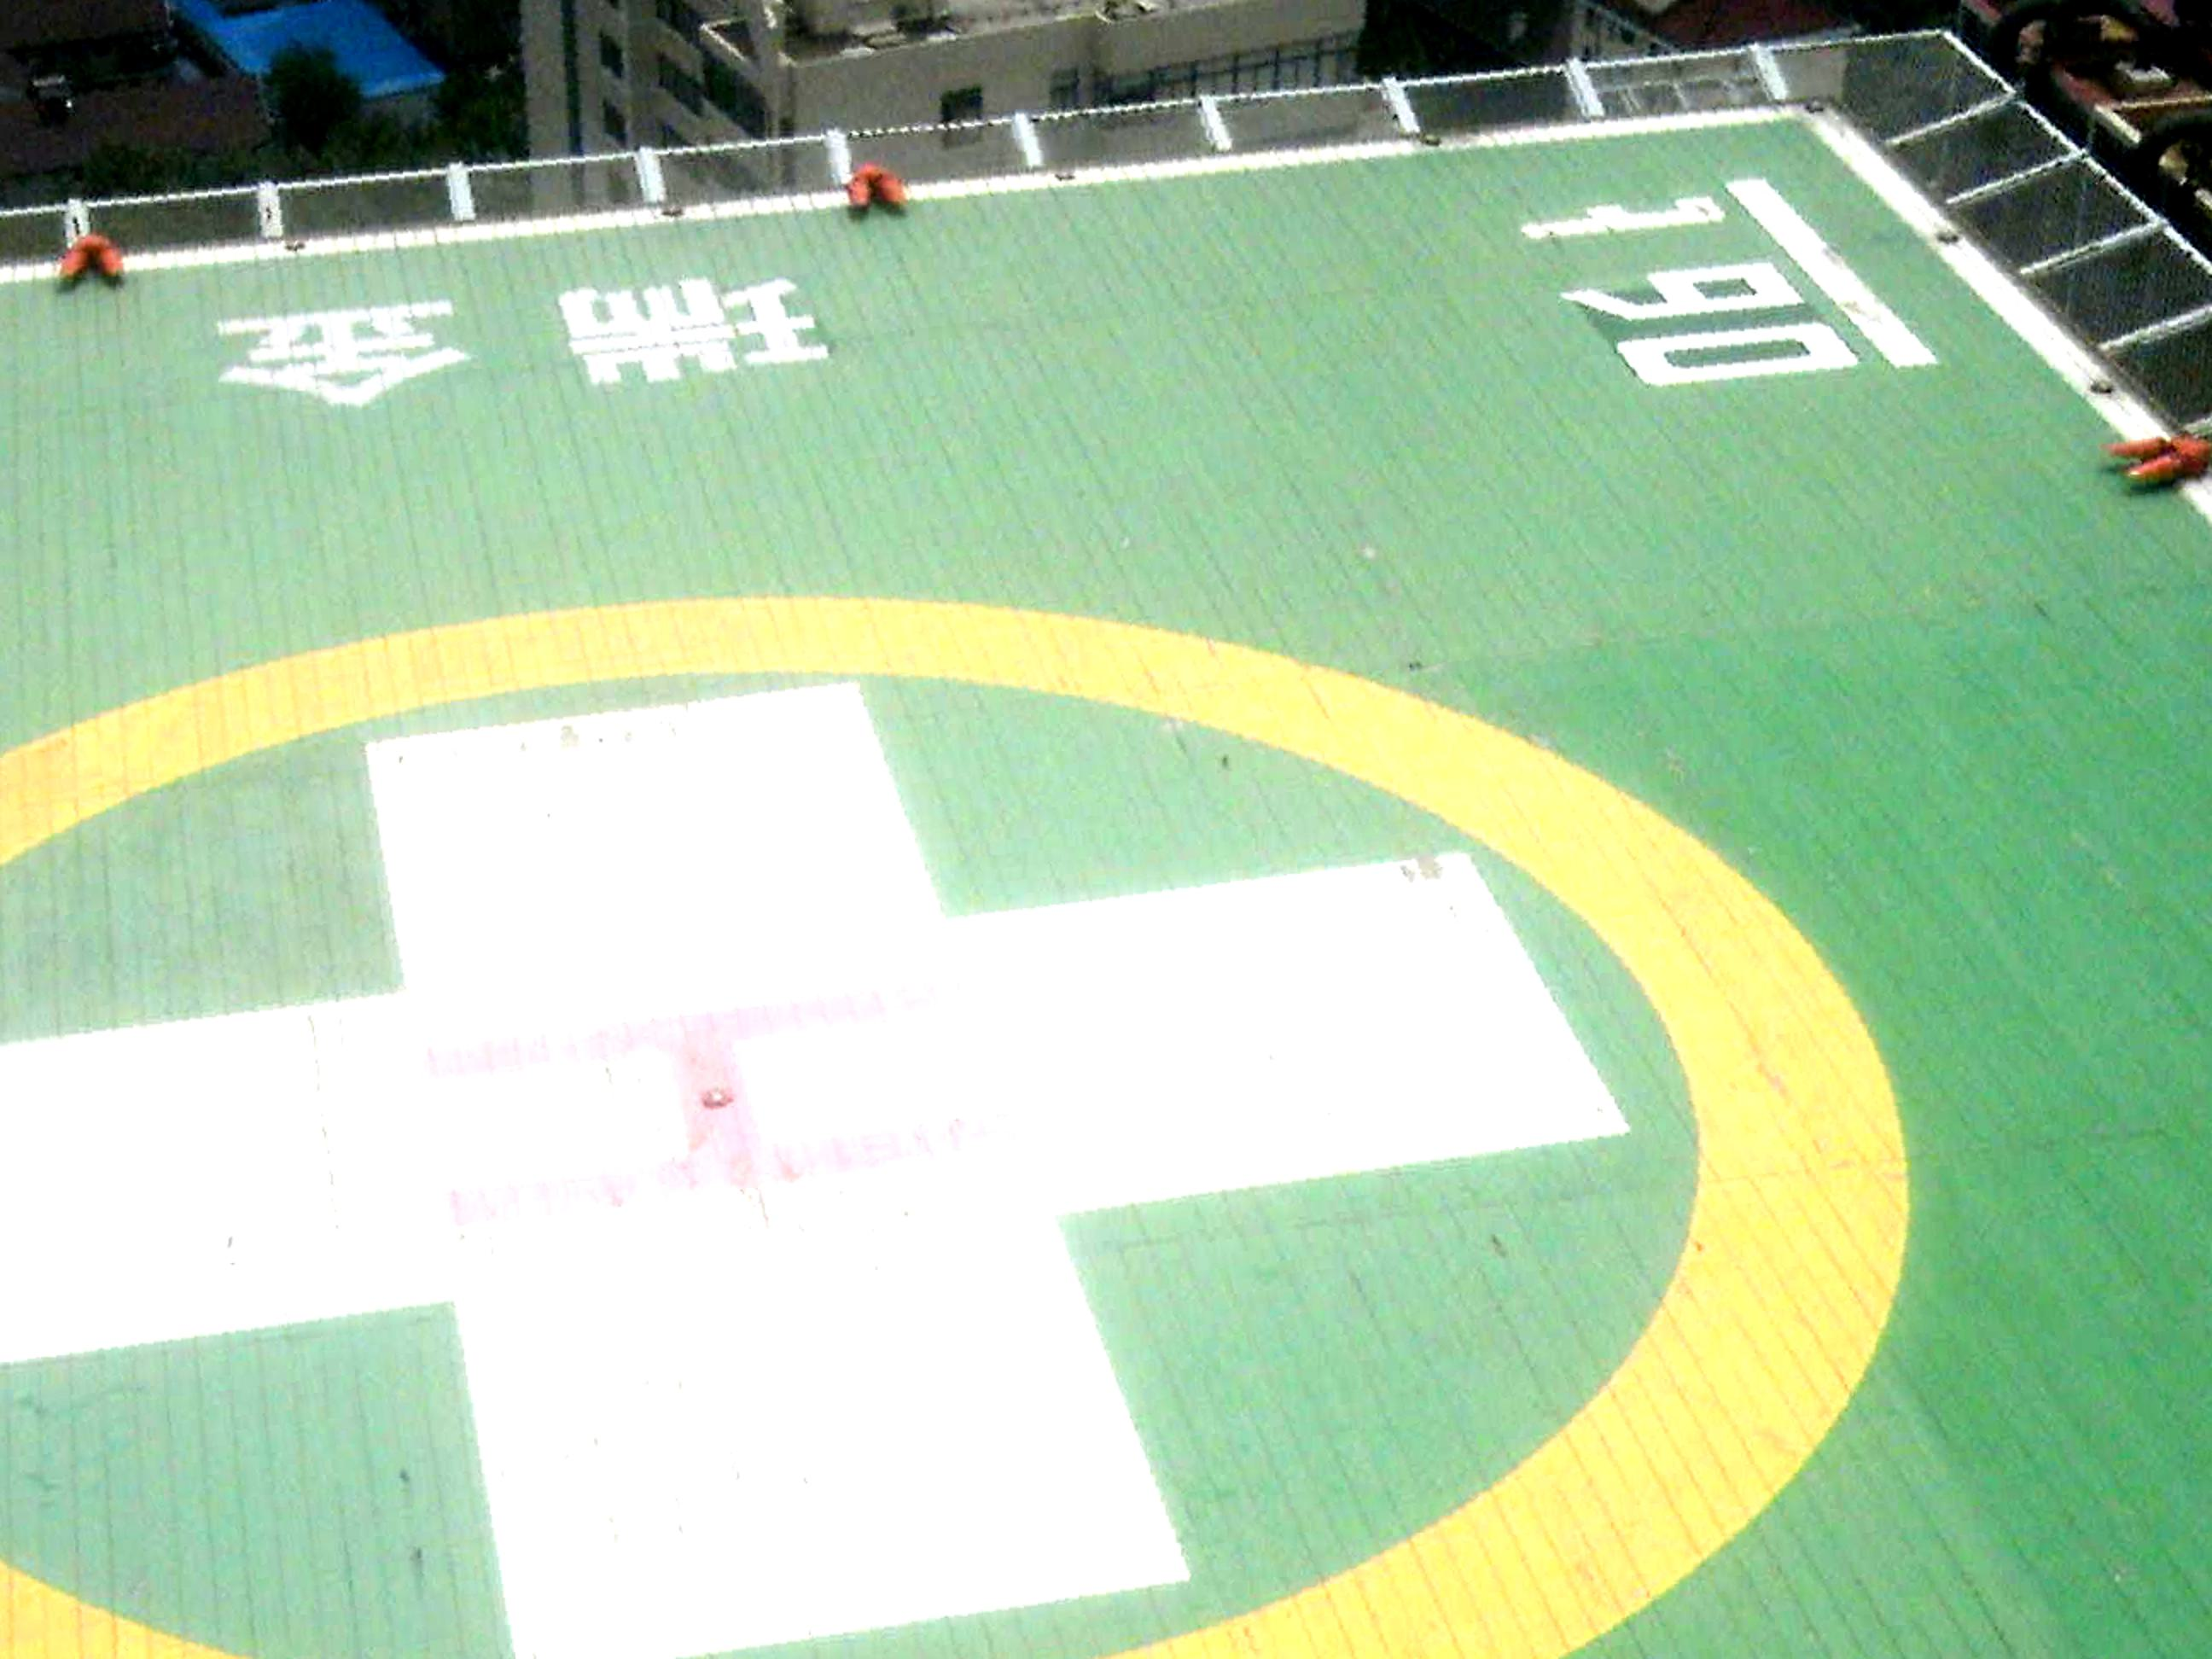Apron: (7, 589, 1925, 1659)
